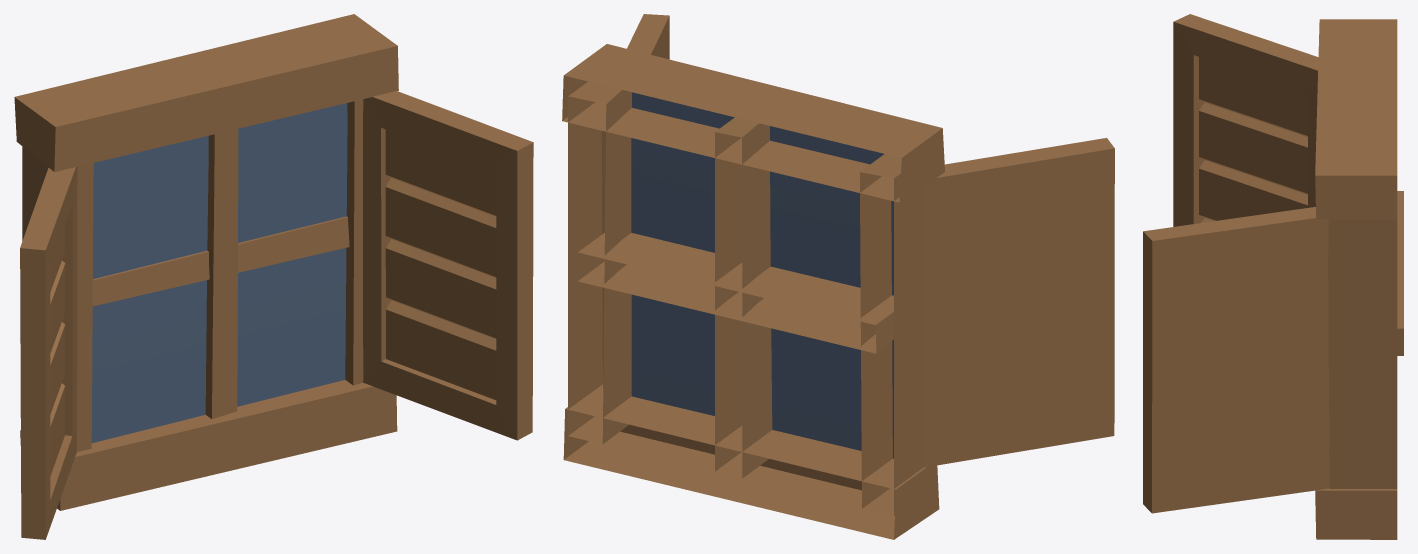
Rendered from House_Window_I.fbx.
The picture shows the model from 3 angles, left to right: view 1: azimuth 30°, elevation 25°; view 2: azimuth 150°, elevation 25°; view 3: azimuth 270°, elevation 25°; orthographic projection. The views are drawn at different scales.
Parts seen in each view (by area): view 1: House_Window_I; view 2: House_Window_I; view 3: House_Window_I.
Boxes of the visible parts, left/top/right/bottom form: House_Window_I: left=14, top=14, right=533, bottom=539; House_Window_I: left=562, top=14, right=1114, bottom=539; House_Window_I: left=1143, top=14, right=1403, bottom=539.
Size of the model in its own units: 127 by 95.07 by 61.67.
